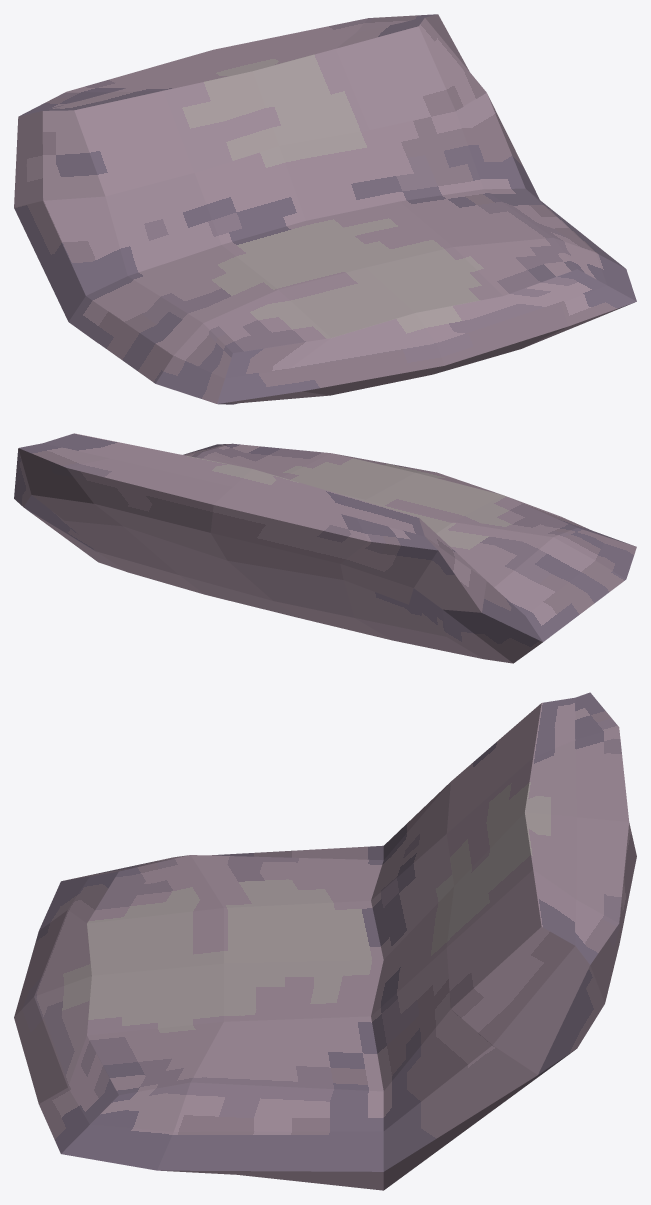
Rendered from Seat cushion2.fbx.
The picture shows the model from 3 angles, top to bottom: view 1: azimuth 30°, elevation 25°; view 2: azimuth 150°, elevation 25°; view 3: azimuth 270°, elevation 25°; orthographic projection. The views are drawn at different scales.
Visible parts, largest first — view 1: Cube.001; view 2: Cube.001; view 3: Cube.001.
Boxes of the visible parts, <box> form: Cube.001: <box>14,14,636,404</box>; Cube.001: <box>14,433,636,663</box>; Cube.001: <box>14,692,636,1190</box>.
Size of the model in its own units: 117 by 45.1 by 99.86.
Materials: 1 (1 with a texture image).
